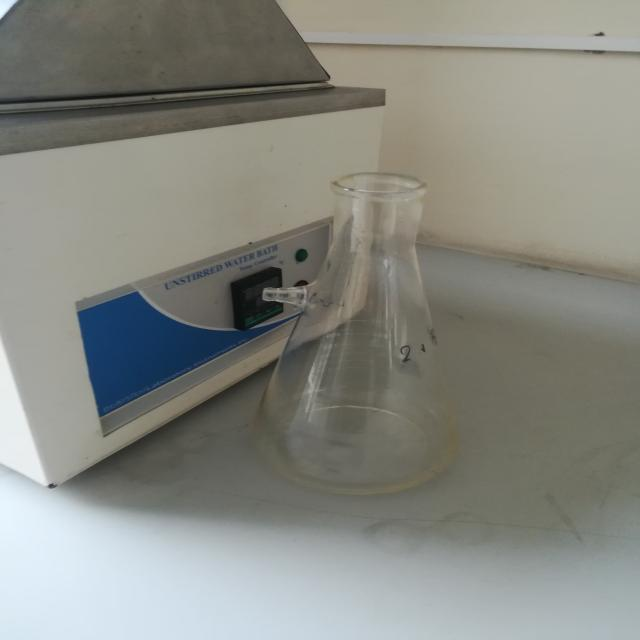Conical_Flask: (211, 150, 497, 524)
